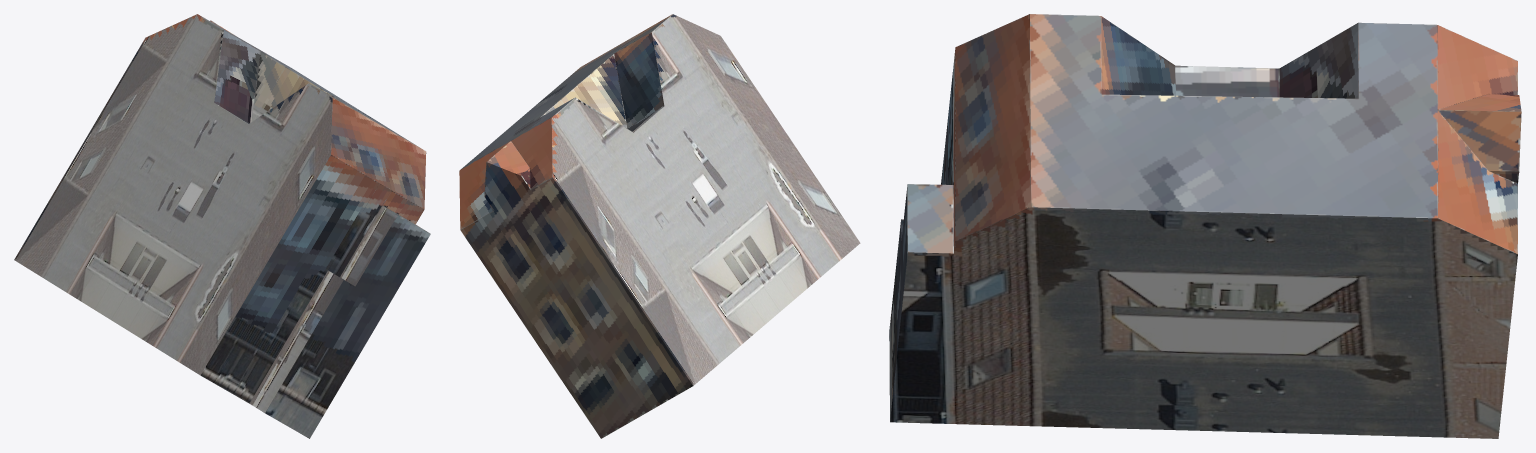
The picture shows the model from 3 angles, left to right: view 1: azimuth 30°, elevation 25°; view 2: azimuth 150°, elevation 25°; view 3: azimuth 270°, elevation 25°; orthographic projection. The views are drawn at different scales.
Visible parts, largest first — view 1: BAG_0599100000670792 (×3); view 2: BAG_0599100000670792 (×2); view 3: BAG_0599100000670792 (×3).
Part boxes in pixels (x1,y1,x2,y2): BAG_0599100000670792 (×3): (14, 14, 430, 438); BAG_0599100000670792 (×2): (459, 14, 860, 438); BAG_0599100000670792 (×3): (889, 14, 1521, 438).
Bounding box in the file's own units: 12.83 × 14.26 × 16.92.
Materials: 1 (1 with a texture image).
